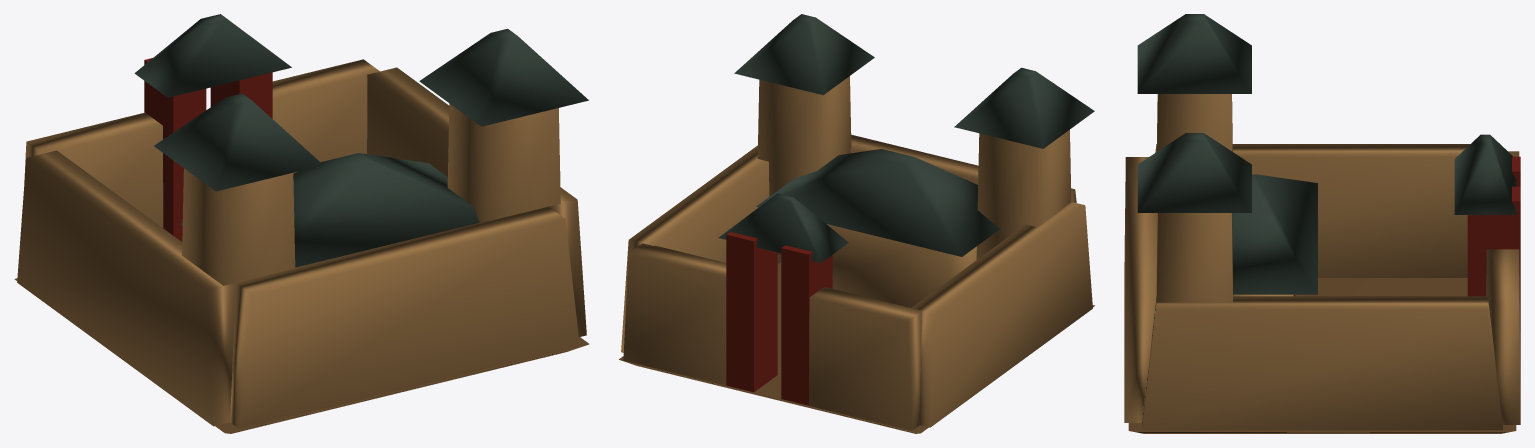
The model's file is R43_HAN_LUOYANG_DEFENSE_FORTIFIED_MANOR_A.fbx.
3 views of the same model, side by side, from view 1: azimuth 30°, elevation 25°; view 2: azimuth 150°, elevation 25°; view 3: azimuth 270°, elevation 25° (orthographic). The views are drawn at different scales.
Parts seen in each view (by area): view 1: wall_n, wall_e, hall_roof, tower_e, tower_w, tower_roof_e, tower_roof_w, wall_w, wall_s_e, wall_s_w, gate_roof, gate_e (+2 smaller); view 2: wall_e, hall_roof, wall_s_e, wall_s_w, tower_e, tower_w, gate_w, wall_w, hall, tower_roof_w, tower_roof_e, gate_e (+3 smaller); view 3: wall_w, wall_e, hall_roof, tower_roof_e, tower_roof_w, tower_w, wall_n, wall_s_w, ground, gate_roof, tower_e, gate_w.
Boxes of the visible parts, x1,y1,x2,y2 form: wall_n: (230, 206, 579, 429); wall_e: (17, 150, 236, 426); hall_roof: (180, 153, 479, 267); tower_e: (182, 168, 295, 285); tower_w: (447, 103, 560, 222); tower_roof_e: (154, 93, 323, 191); tower_roof_w: (419, 28, 588, 126); wall_w: (367, 67, 586, 336); wall_s_e: (24, 112, 163, 227); wall_s_w: (272, 59, 379, 173); gate_roof: (134, 14, 291, 97); gate_e: (144, 58, 206, 241); wall_e: (911, 202, 1092, 427); hall_roof: (756, 149, 999, 256); wall_s_e: (809, 287, 921, 430); wall_s_w: (623, 243, 726, 385); tower_e: (976, 130, 1071, 259); tower_w: (757, 76, 851, 254); gate_w: (726, 232, 777, 392); wall_w: (621, 145, 781, 352); hall: (826, 224, 976, 307); tower_roof_w: (734, 14, 874, 95); tower_roof_e: (954, 67, 1094, 148); gate_e: (781, 245, 832, 405); wall_w: (1142, 296, 1502, 430); wall_e: (1155, 144, 1470, 277); hall_roof: (1232, 174, 1317, 294); tower_roof_e: (1137, 14, 1251, 93); tower_roof_w: (1137, 133, 1251, 212); tower_w: (1156, 213, 1233, 302); wall_n: (1124, 157, 1157, 422); wall_s_w: (1486, 249, 1520, 424); ground: (1128, 278, 1516, 433); gate_roof: (1454, 134, 1516, 214); tower_e: (1156, 94, 1232, 151); gate_w: (1467, 186, 1520, 359).
Bounding box in the file's own units: 90 × 70.5 × 90.
